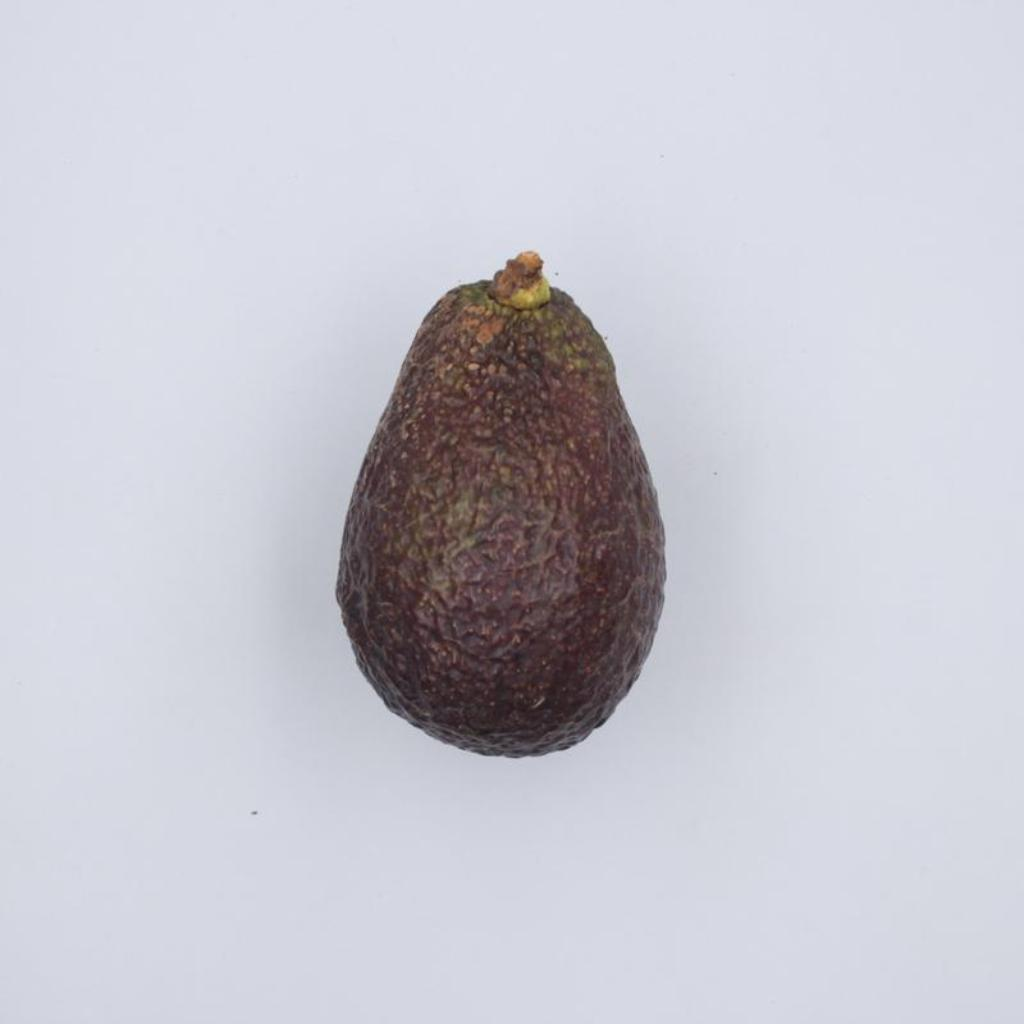antracnosis_fruto: (337, 252, 663, 755)
